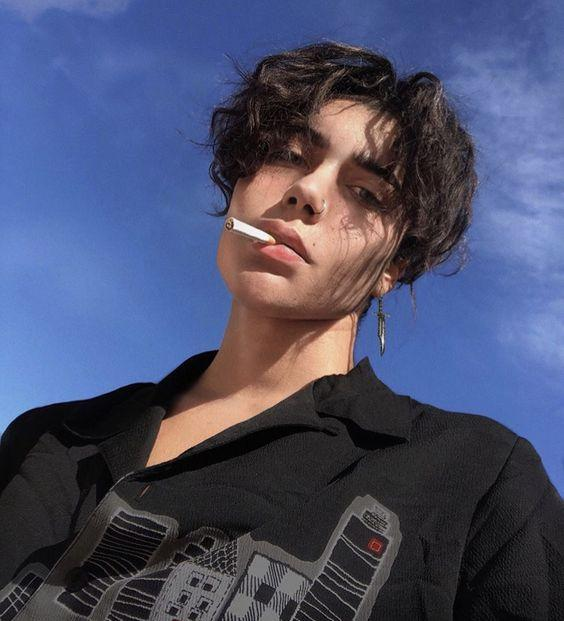cigarette: (224, 217, 275, 244)
